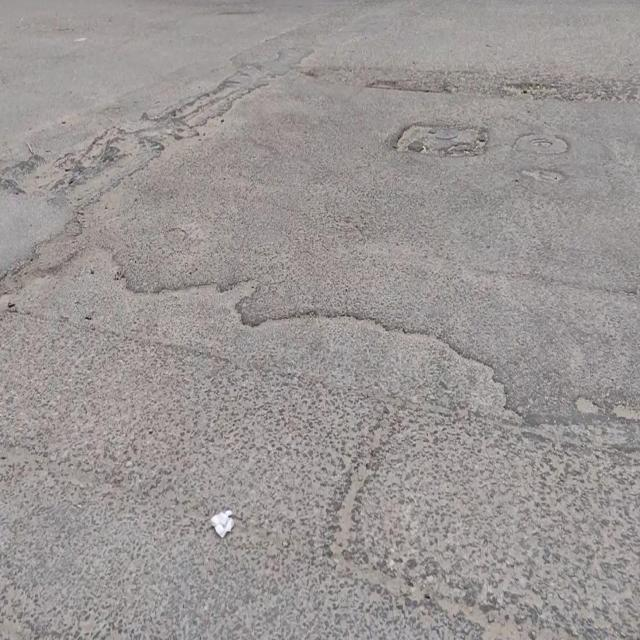Potholes: (391, 118, 488, 162)
